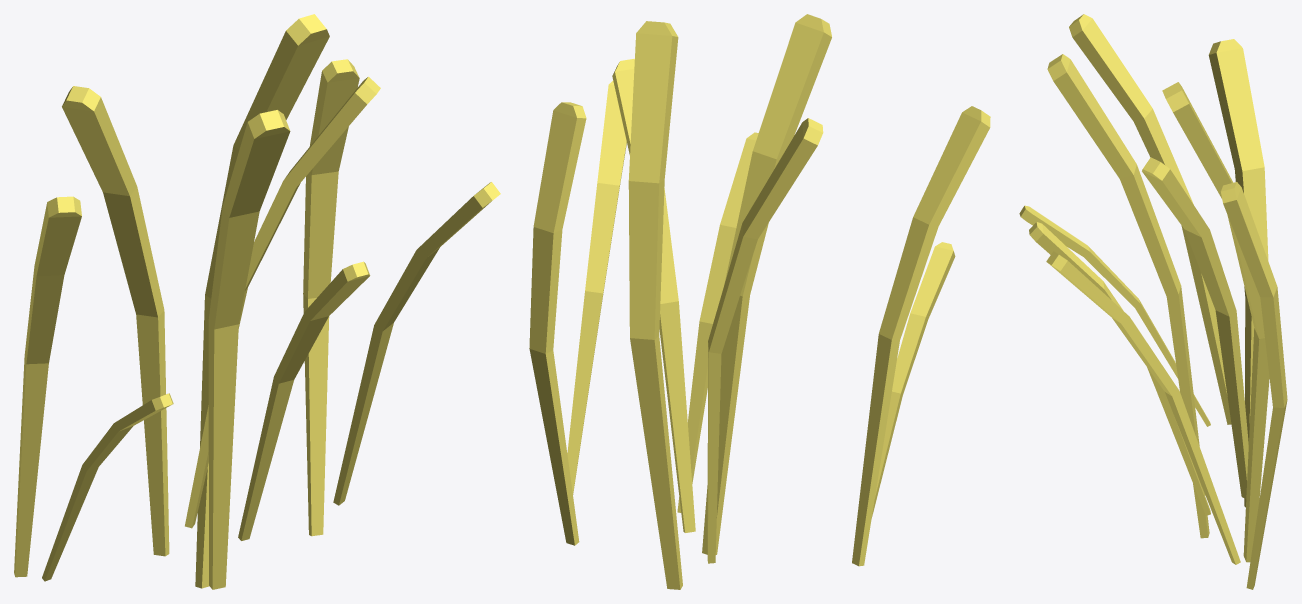
The model's file is Coral_020.glb.
The picture shows the model from 3 angles, left to right: view 1: azimuth 30°, elevation 25°; view 2: azimuth 150°, elevation 25°; view 3: azimuth 270°, elevation 25°; orthographic projection. The views are drawn at different scales.
Parts seen in each view (by area): view 1: Coral_020; view 2: Coral_020; view 3: Coral_020.
Boxes of the visible parts, x1,y1,x2,y2 form: Coral_020: (14, 14, 500, 589); Coral_020: (529, 14, 990, 589); Coral_020: (1019, 14, 1287, 589).
Bounding box in the file's own units: 0.5655 × 0.723 × 0.351.
1 material, 1 textured.
